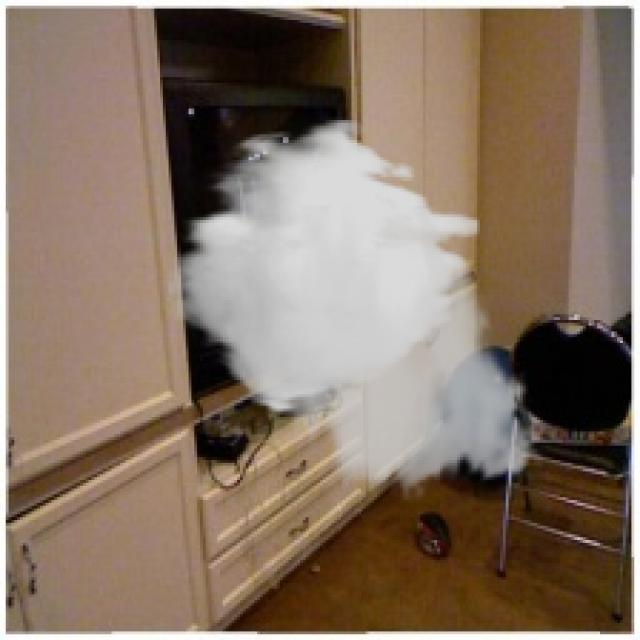smoke: (168, 117, 552, 503)
